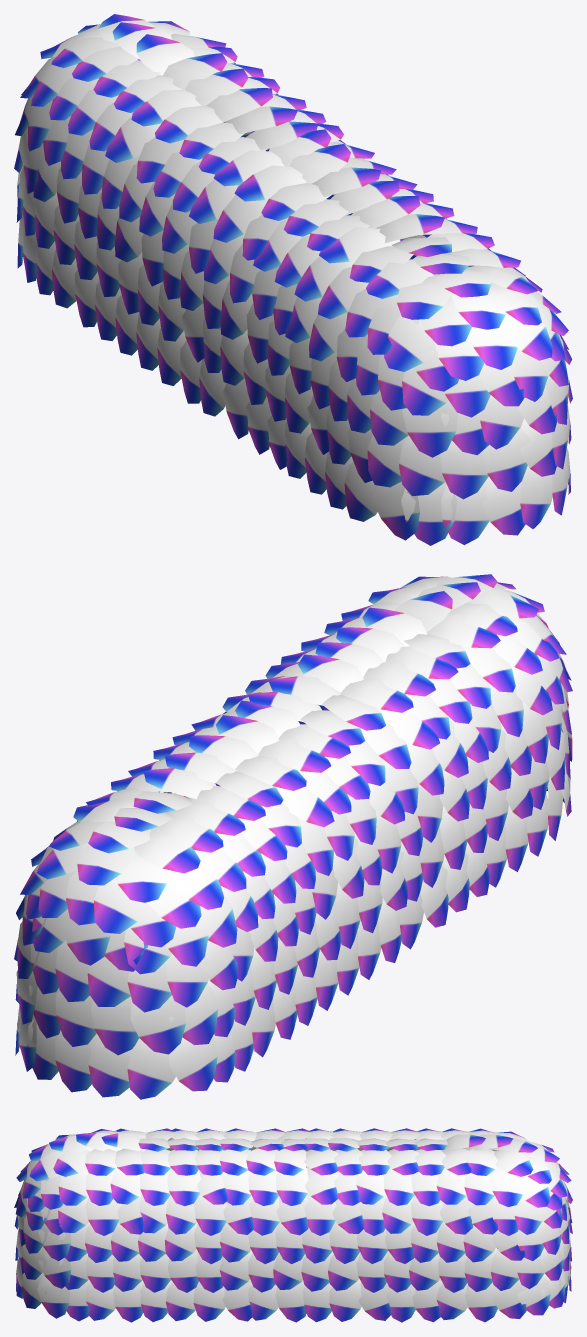
File: Hedge3.fbx
3 views of the same model, one above another, from view 1: azimuth 30°, elevation 25°; view 2: azimuth 150°, elevation 25°; view 3: azimuth 270°, elevation 25° (orthographic). The views are drawn at different scales.
Parts seen in each view (by area): view 1: Plane.451; view 2: Plane.451; view 3: Plane.451.
Boxes of the visible parts, left/top/right/bottom form: Plane.451: left=14, top=14, right=572, bottom=545; Plane.451: left=14, top=574, right=572, bottom=1099; Plane.451: left=14, top=1128, right=572, bottom=1322.
Size of the model in its own units: 240 by 255 by 850.
